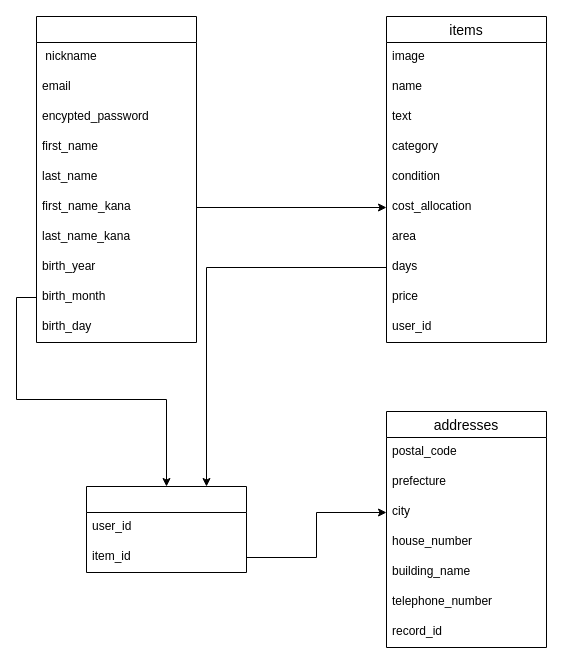
Some shapes in this 563 by 664 pixel diagram are drawn without their labels. The box of each missing label's shape, as (x1, y1, x2, y2) in pixels:
record: (86, 486, 246, 572)
users: (36, 16, 196, 342)
